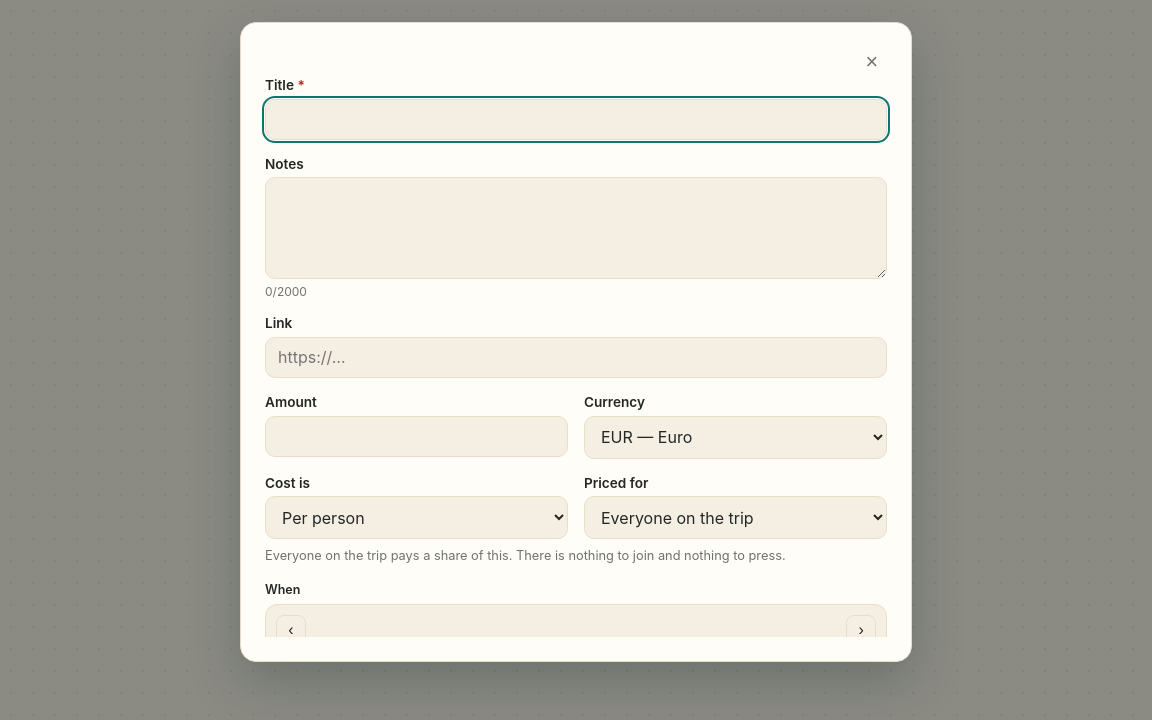
it: what the option form says is wrong › counts the notes as they are typed
The image size is (1152, 720).
Expected: the text "0/2000" is shown, [265, 284, 307, 299]
Type "Meet at the funicular" into the text box labelled "Notes".
click(576, 228); type("Meet at the funicular")  # box [265, 177, 887, 279]
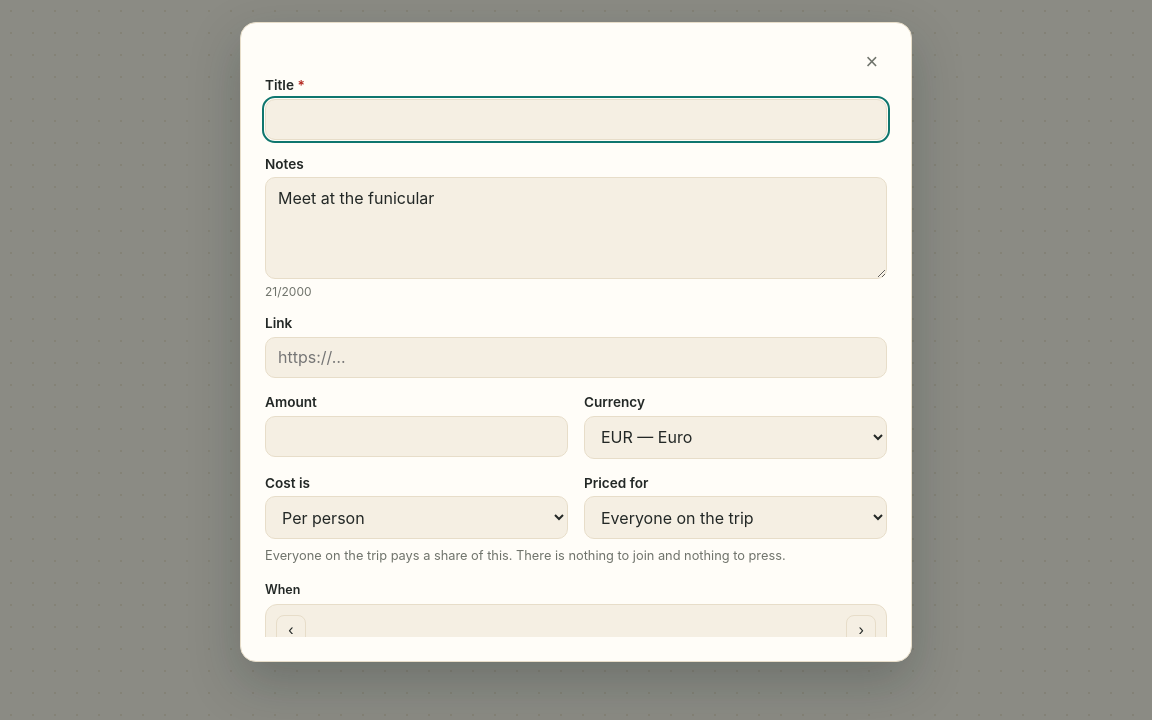
Now the text "21/2000" is shown, box [265, 284, 312, 299]
